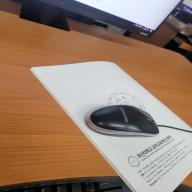Mouse: (86, 106, 161, 138)
